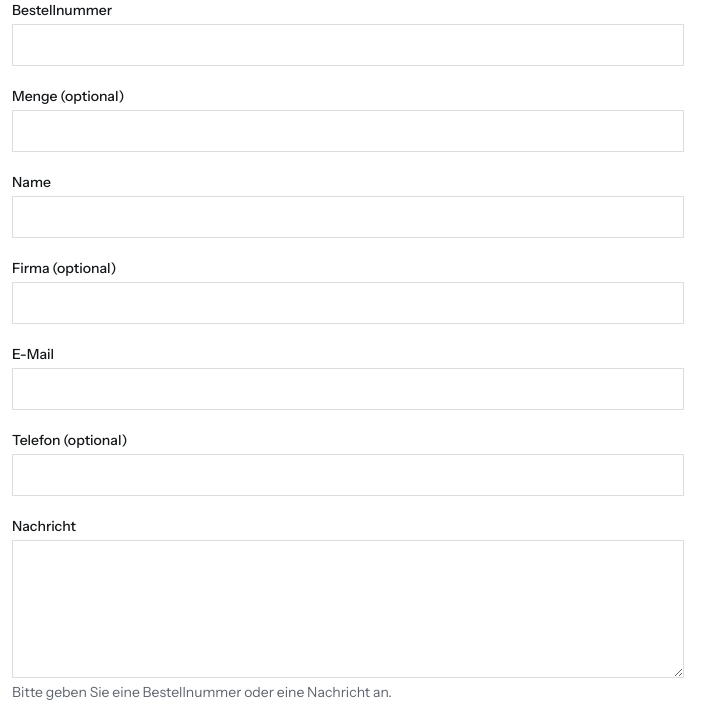
Test: InquiryForm (FR-8, FR-11) › focuses the first invalid field after a server-side error
The width and height of the screenshot is (705, 720).
In the field labelled "Bestellnummer": x=348, y=45 [12,24,684,66], type "00000"
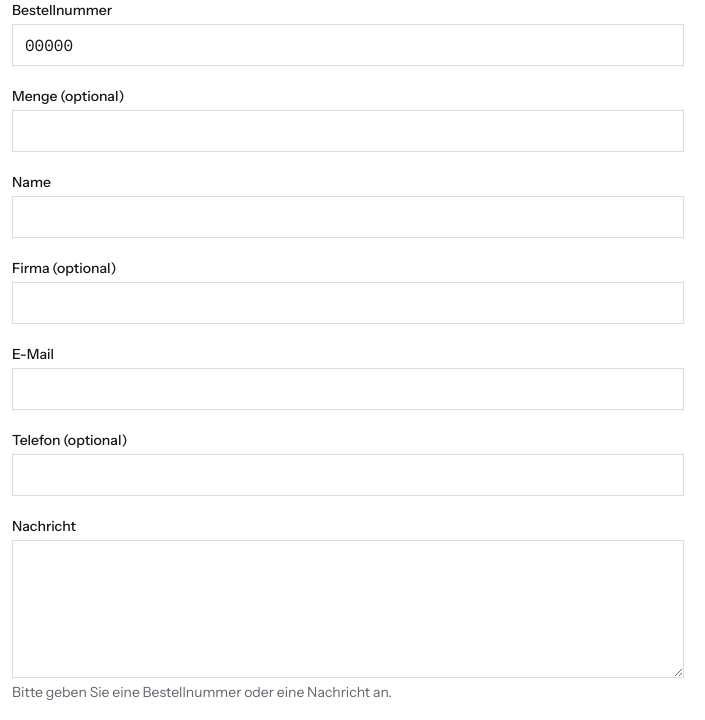
In the field labelled "Name": x=348, y=217 [12,196,684,238], type "Erika"
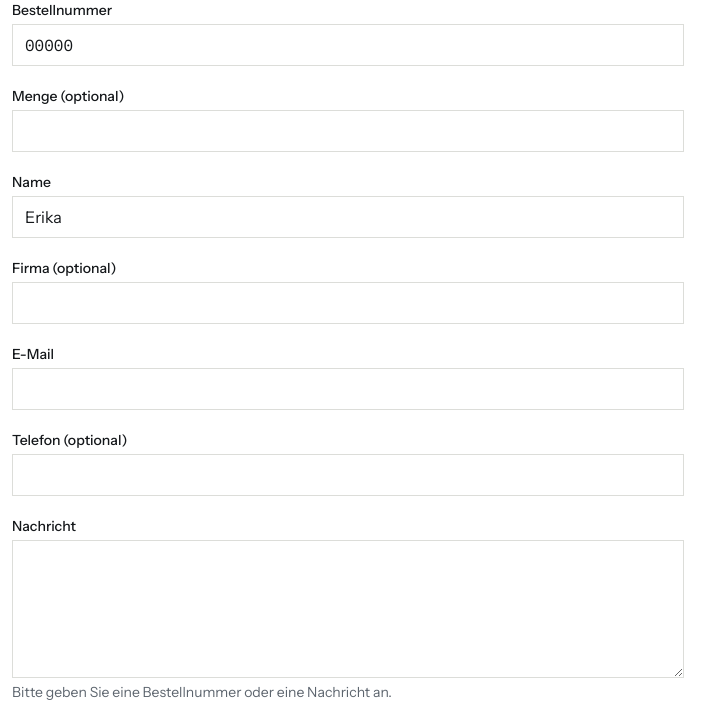
In the field labelled "E-Mail": x=348, y=389 [12,368,684,410], type "erika@example.com"
(page scrolled)
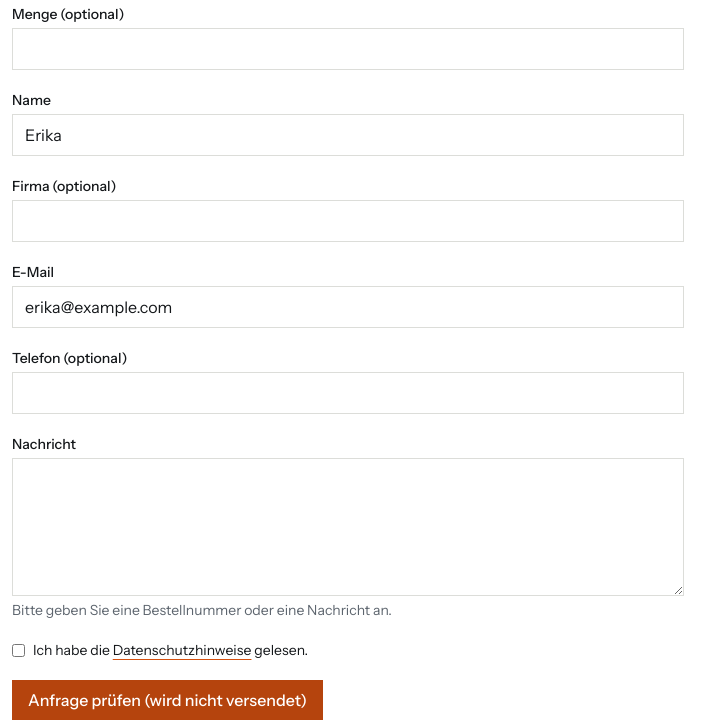
Click the checkbox labelled "Ich habe die Datenschutzhinweise gelesen.": x=18, y=650 [12,644,25,657]
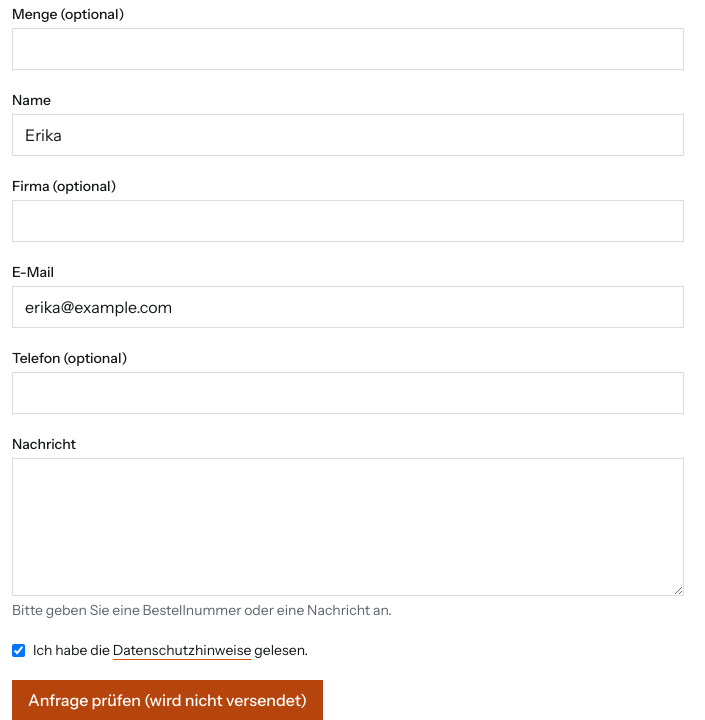
Click the button "Anfrage prüfen (wird nicht versendet)": x=168, y=700 [12,680,323,719]
(page scrolled)
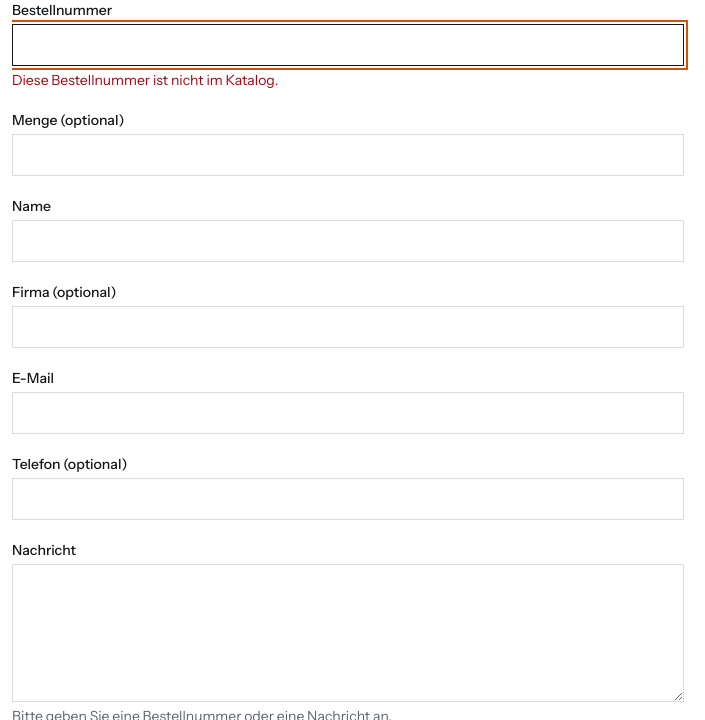
Check: the text "Diese Bestellnummer ist nicht im Katalog." is shown, box [12,71,278,89]
